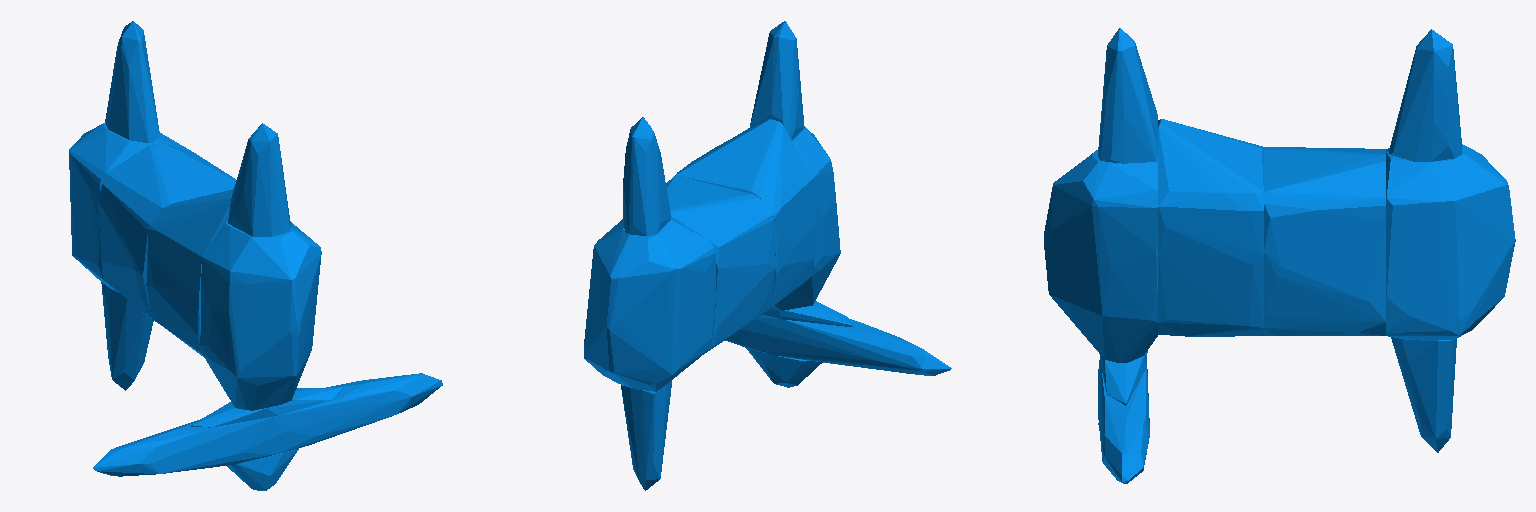
robot.urdf — blob769:
<robot name="blob769">
  <link name="random_obj_769">
    <contact>
      <lateral_friction value="1.0"/>
      <rolling_friction value="0.0"/>
      <inertia_scaling value="3.0"/>
      <contact_cfm value="0.0"/>
      <contact_erp value="1.0"/>
    </contact>
    <inertial>
      <origin rpy="0 0 0" xyz="0 0 0"/>
      <mass value="0.1"/>
      <inertia ixx="1" ixy="0" ixz="0" iyy="1" iyz="0" izz="0"/>
    </inertial>
    <visual>
      <origin rpy="0 0 0" xyz="0 0 0"/>
      <geometry>
        <mesh filename="769.obj" scale="0.015 0.015 0.015"/>
      </geometry>
      <material name="blockmat">
        <color rgba="0.06 0.59 0.94 1"/>
      </material>
    </visual>
    <collision>
      <origin rpy="0 0 0" xyz="0 0 0"/>
      <geometry>
        <mesh filename="769.obj" scale="0.015 0.015 0.015"/>
      </geometry>
    </collision>
  </link>
</robot>

--- Render facts (derived) ---
Views: 3 orthographic renders of the robot side by side, from view 1: azimuth 30°, elevation 25°; view 2: azimuth 150°, elevation 25°; view 3: azimuth 270°, elevation 25°.
Robot: blob769 — 1 links, 0 joints (none); root link random_obj_769; default pose: all joints at 0.
Links seen in each view (by area): view 1: random_obj_769; view 2: random_obj_769; view 3: random_obj_769.
Boxes of the visible links, <box> form: random_obj_769: <box>69,21,442,490</box>; random_obj_769: <box>584,21,951,490</box>; random_obj_769: <box>1044,28,1515,483</box>.
Size in the robot's own frame: 0.0898 by 0.0911 by 0.0911 metres.
Meshes: 1 distinct files referenced, 1 mesh visuals loaded (1 OBJ).